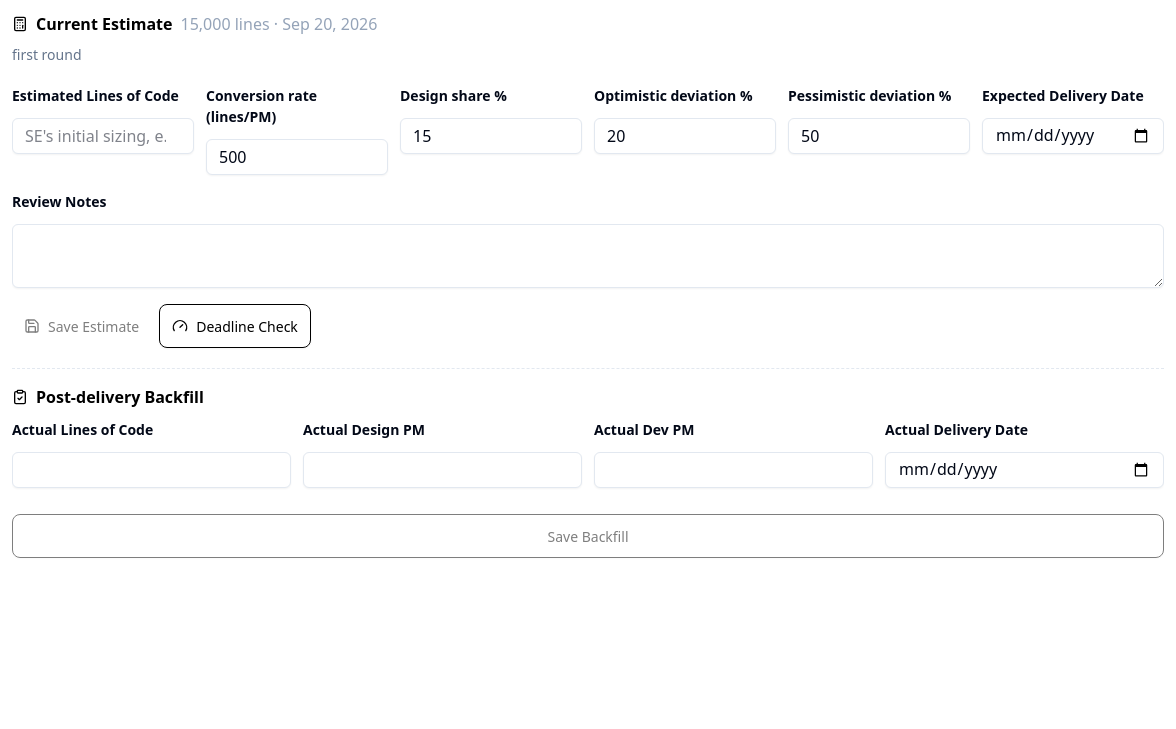
EstimationPanel › R08: check result identifies the saved version it used
Expected: the text "Current Estimate" is shown, [36,12,172,36]
Step 1. Click the button "Deadline Check" → (235, 326), box [159,304,311,348]
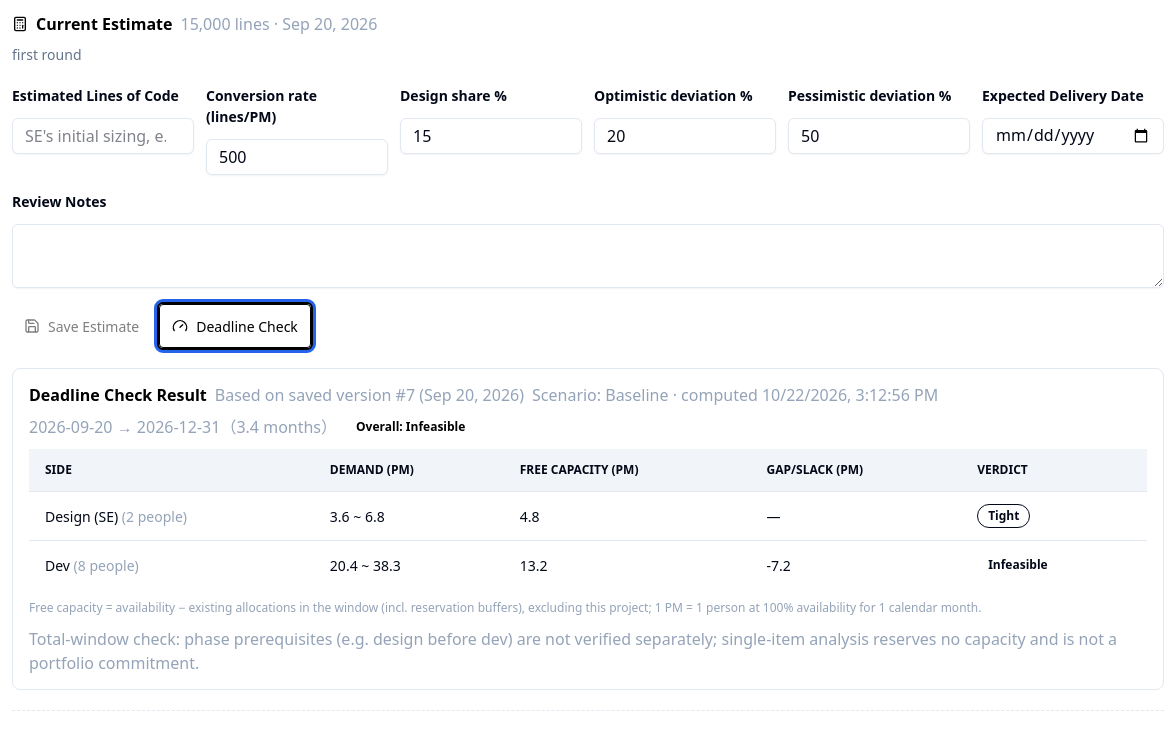
Now the text "Overall: Infeasible" is shown, box [356,418,465,435]
Now the text "Based on saved version #7 (Sep 20, 2026)" is shown, box [215,383,524,407]
Now the text "not a portfolio commitment" is shown, box [29,628,1117,674]
